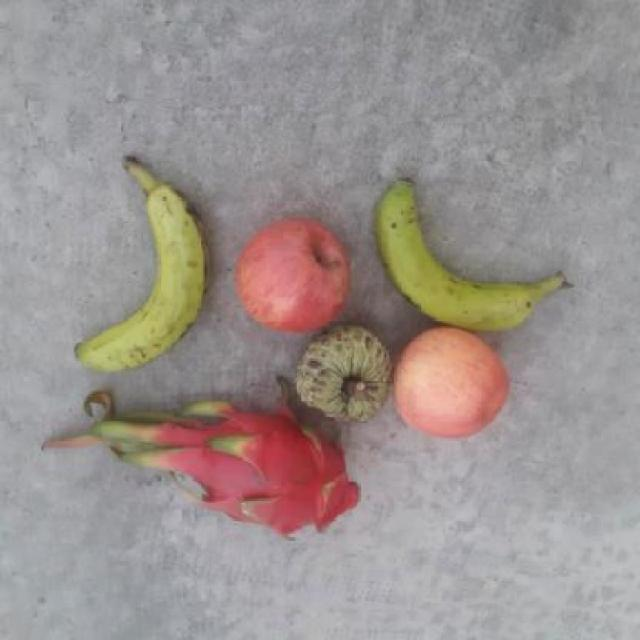apple: (234, 216, 348, 335), (395, 323, 511, 435)
banana: (363, 174, 572, 334), (73, 146, 212, 377)
dragon fruit: (194, 416, 360, 538)
sugar apple: (293, 321, 399, 427)
